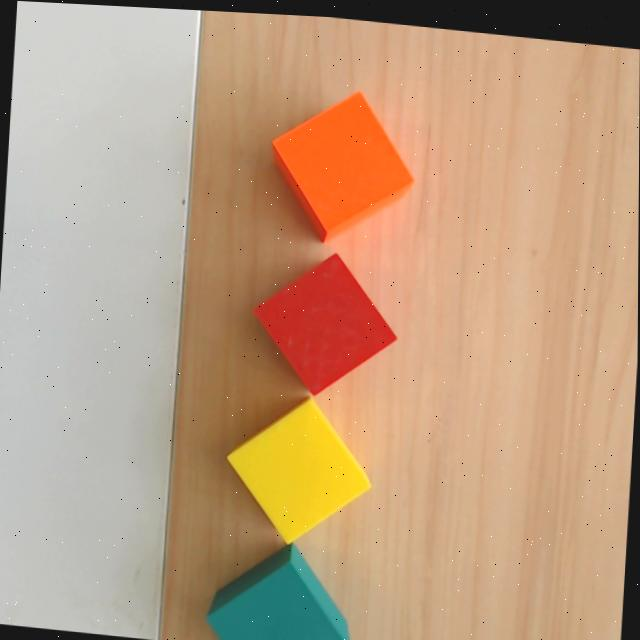Kubus-Hijau-505050: (197, 541, 356, 640)
Kubus-Jingga-505050: (264, 89, 417, 244)
Kubus-Kuning-505050: (223, 395, 373, 546)
Kubus-Merah-505050: (251, 251, 396, 396)
